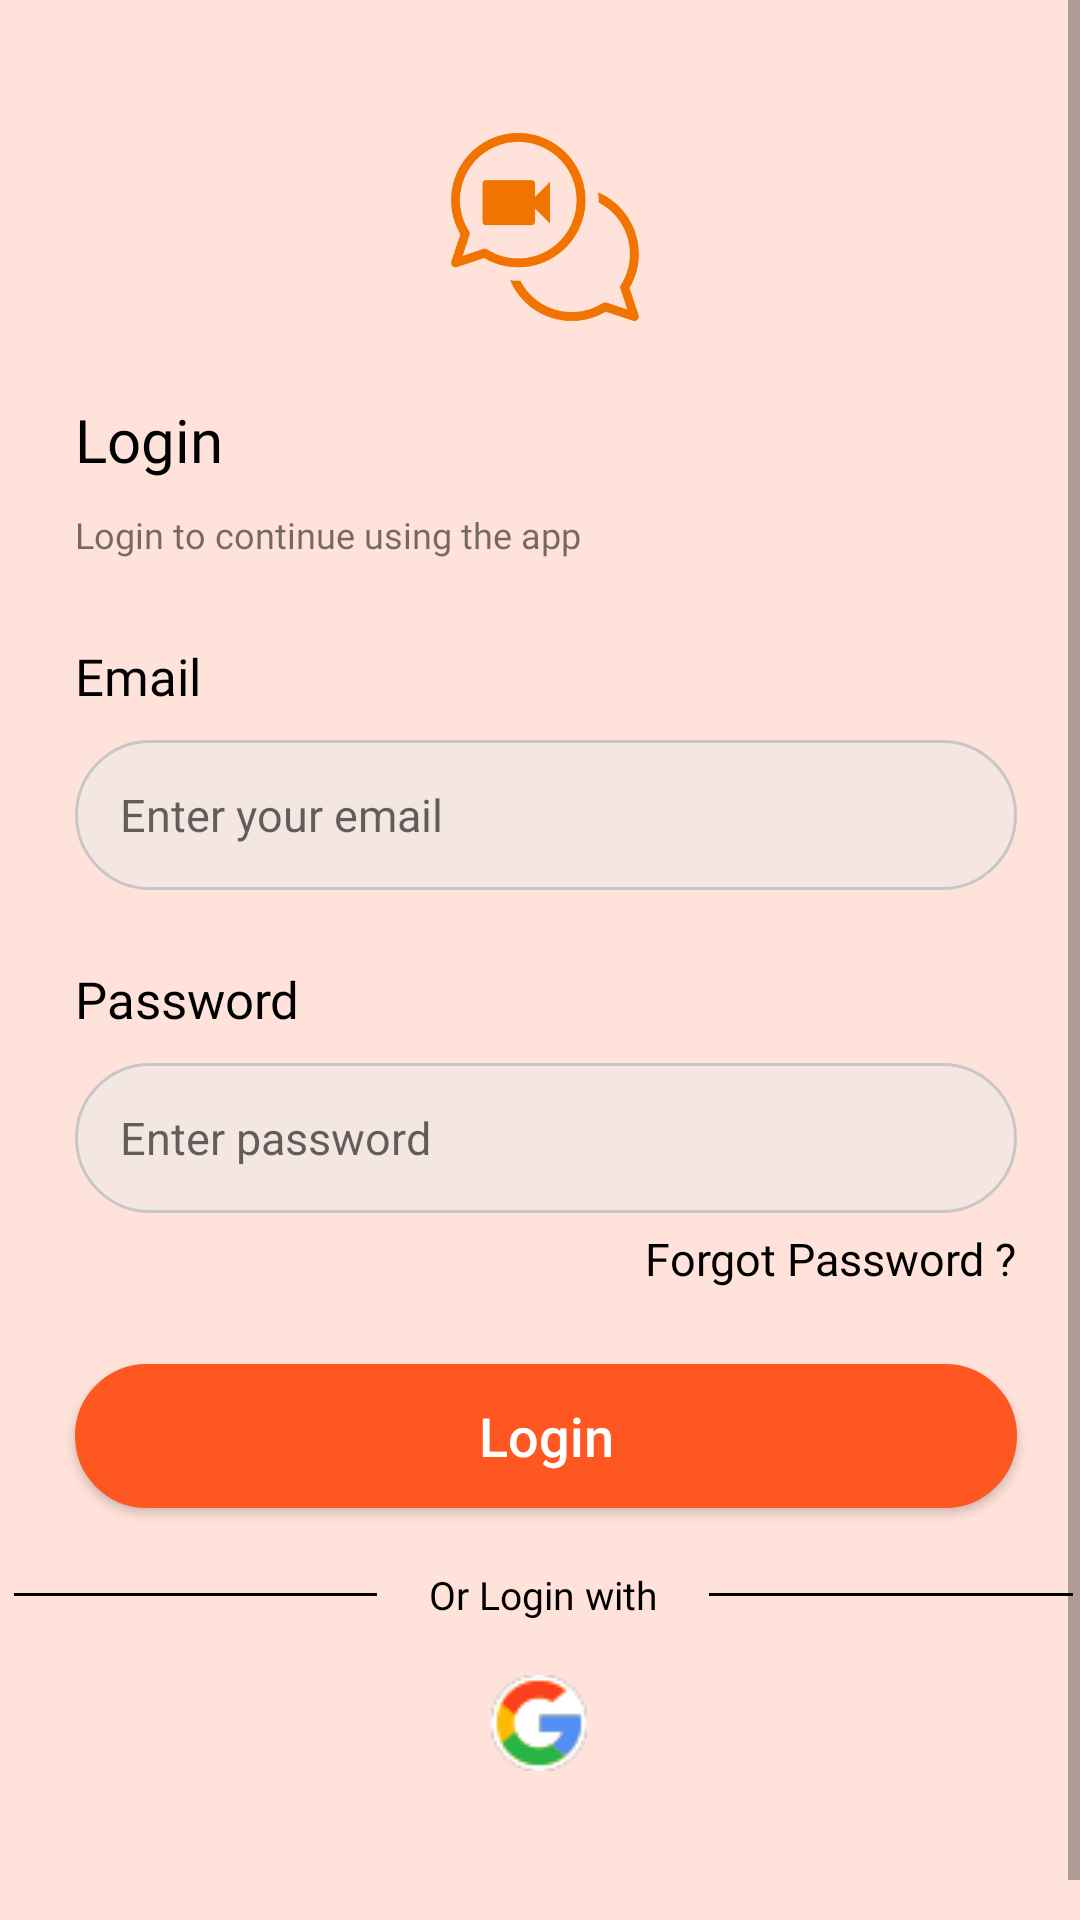

Named icons in this screenshot (1080 x 1920) and their bounding boxes, (x1, y1, x2, y2):
iconchat: (451, 133, 639, 321)
